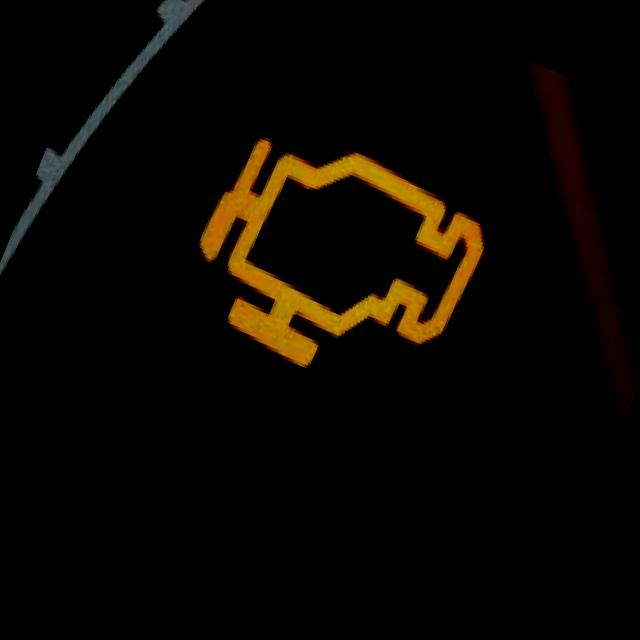kontrolka: (146, 101, 524, 440)
